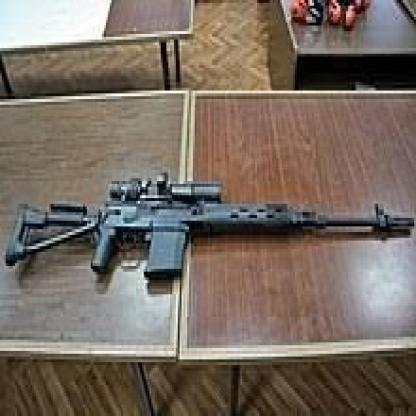Gun: (2, 164, 412, 294)
